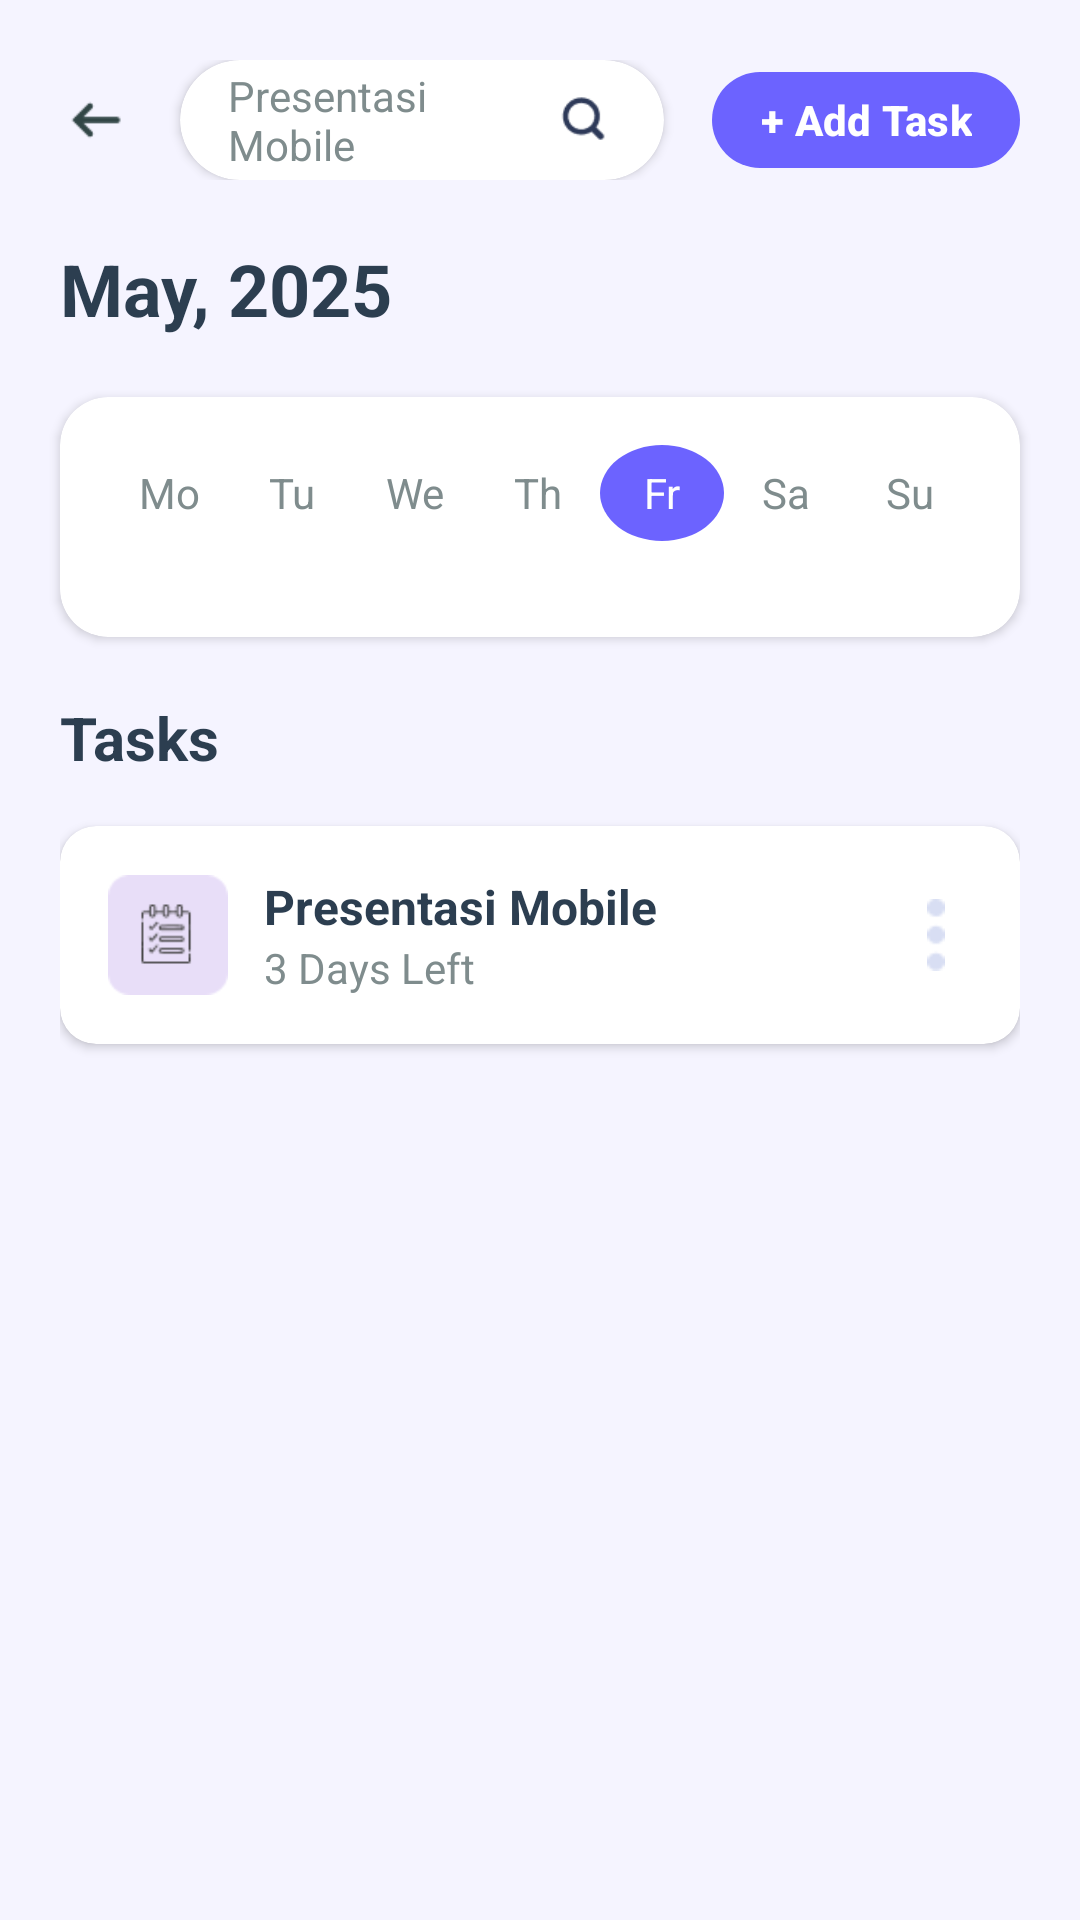

Named icons in this screenshot (1080w x 1920h) and their centers, (x,y):
back: (96,120)
more vert: (936,935)
search: (583,118)
